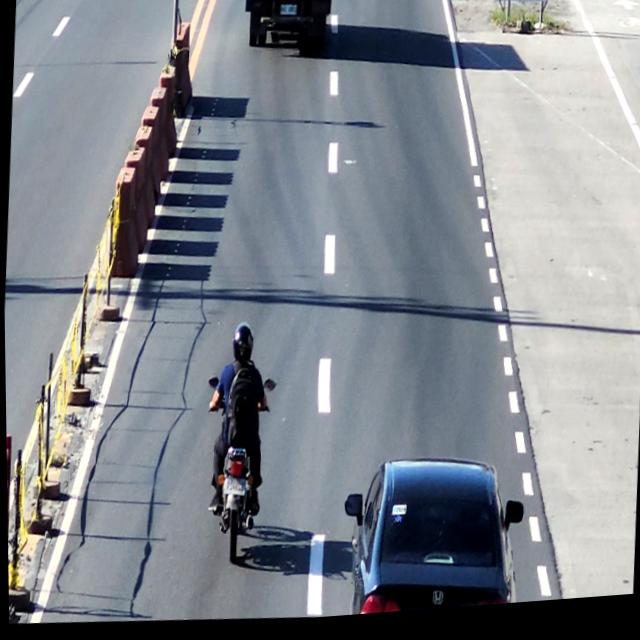Car: (343, 450, 526, 620)
License-Plate: (219, 473, 247, 503), (278, 4, 300, 27)
Motorcycle: (195, 322, 282, 578)
Truck: (242, 0, 339, 62)
